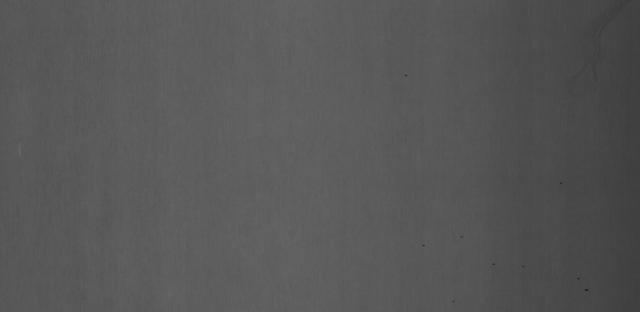inclusion: (571, 272, 591, 297)
water_spot: (562, 18, 632, 98)
